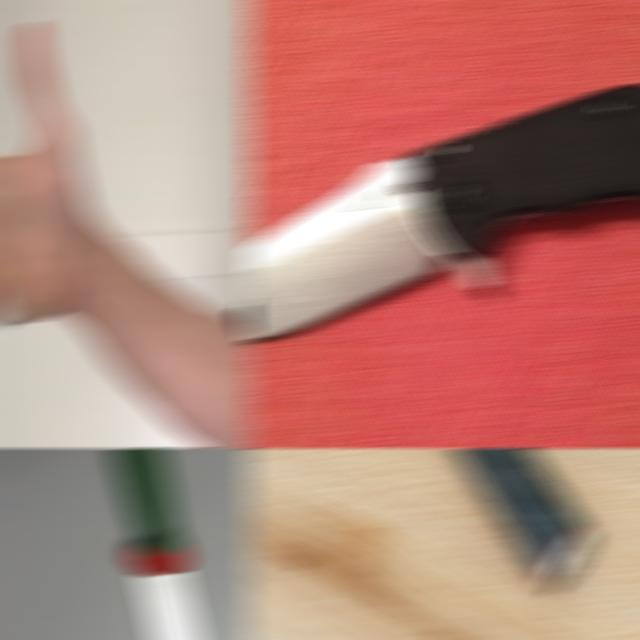Knife: (110, 448, 202, 640)
Knife_Handle: (0, 0, 92, 350)
